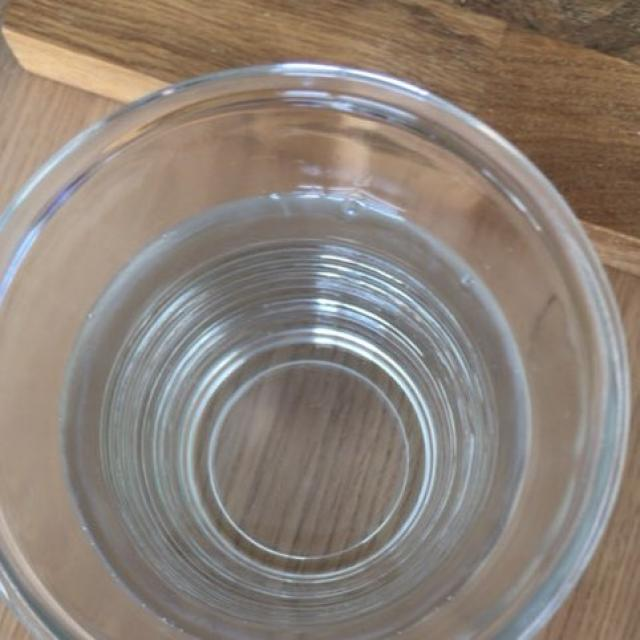water: (57, 189, 537, 640)
